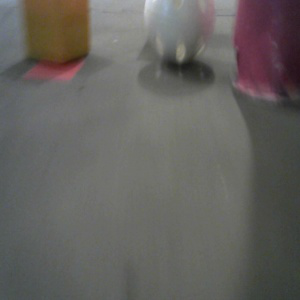right: (232, 1, 300, 100)
